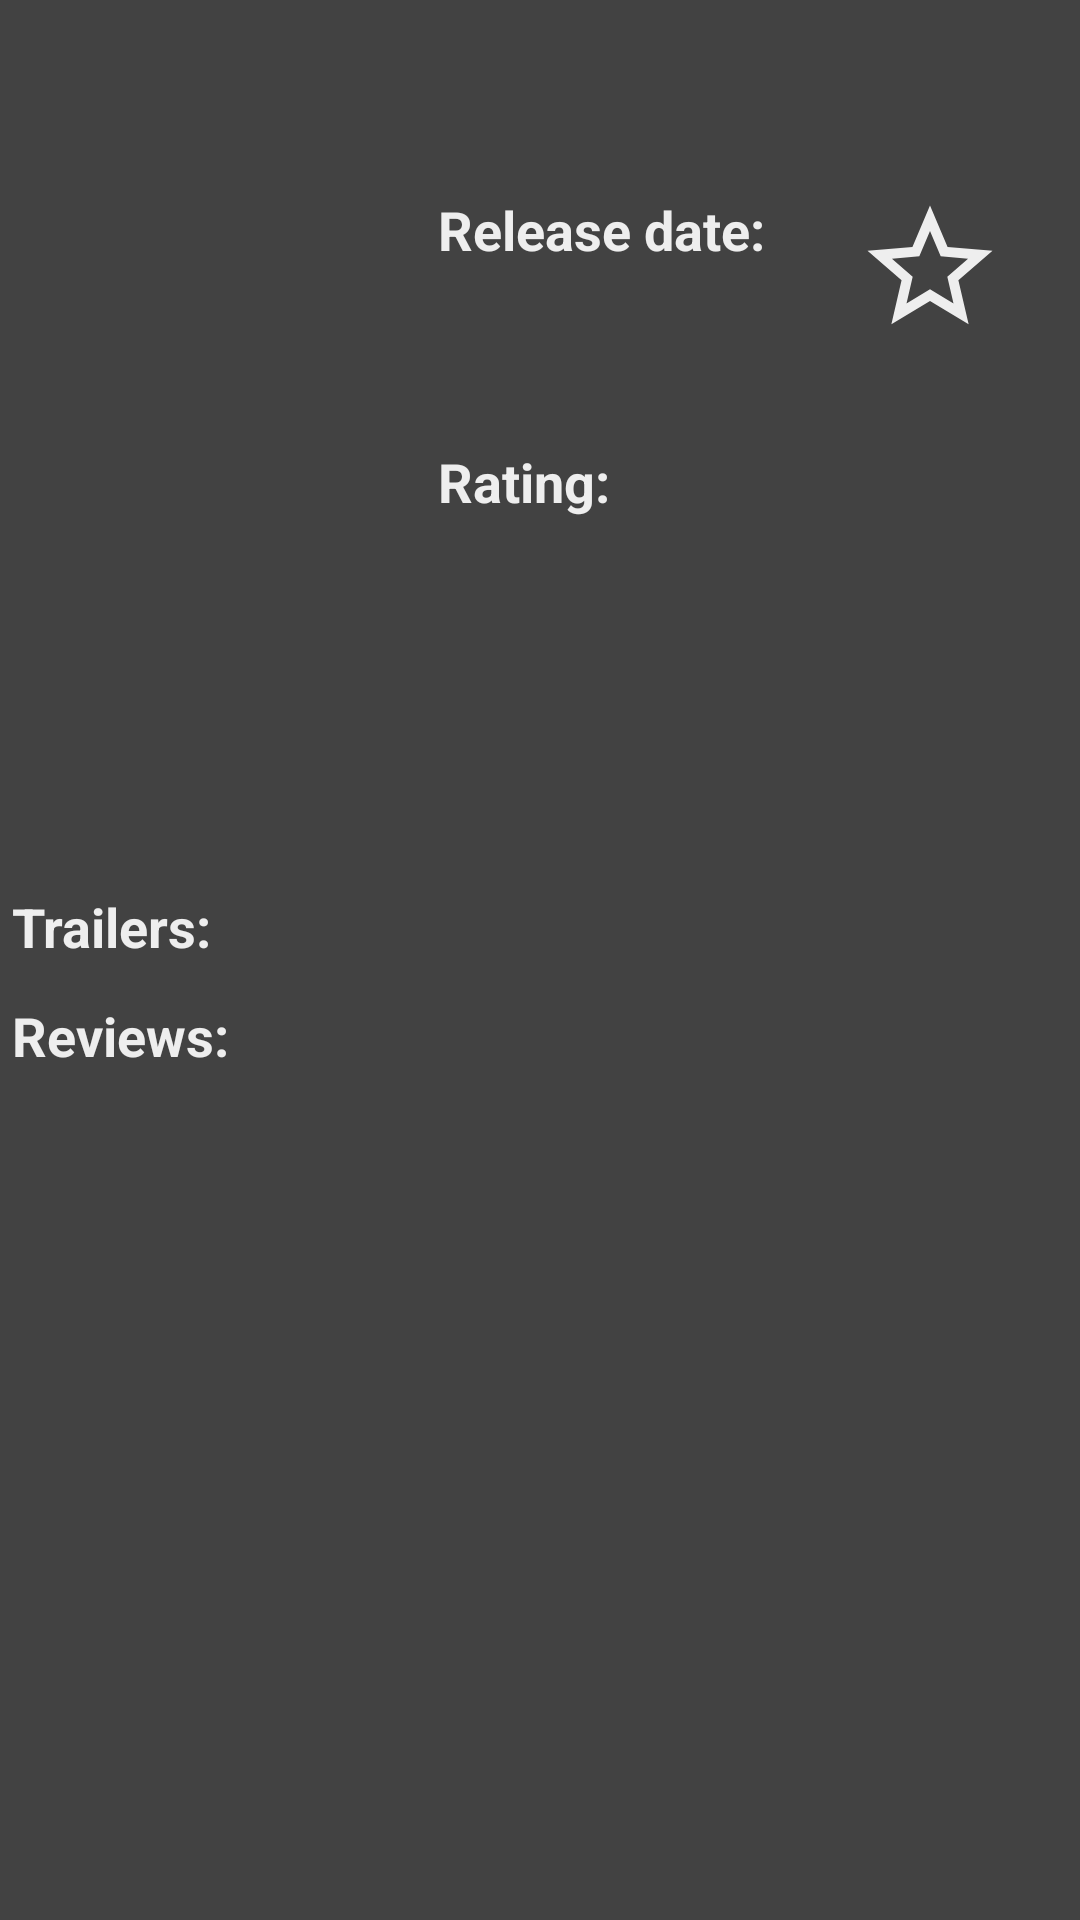

Where to tap for icons on this 1080px x 1920px app screen, as point (x, y):
border star: point (930, 265)
